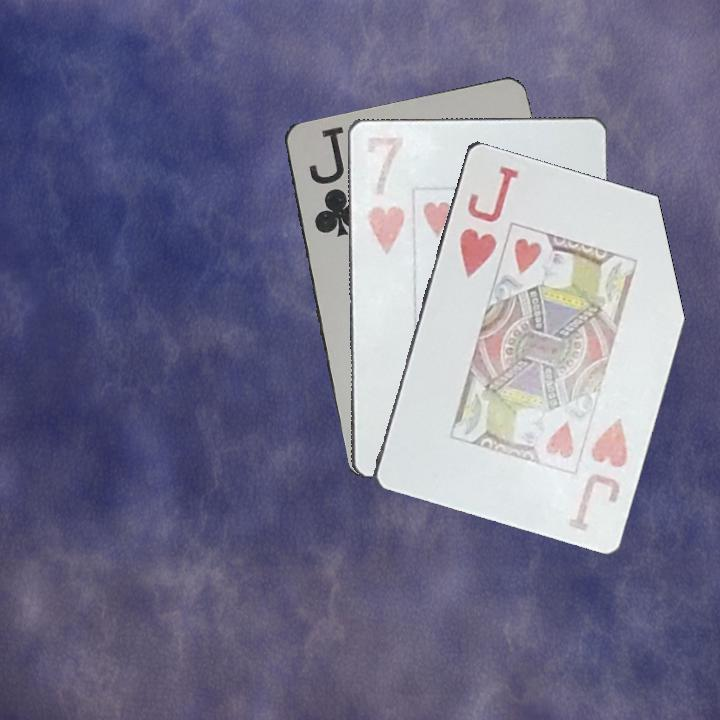7h: (360, 131, 408, 257)
Jc: (305, 123, 360, 240)
Jh: (565, 413, 631, 534), (455, 161, 521, 280)
